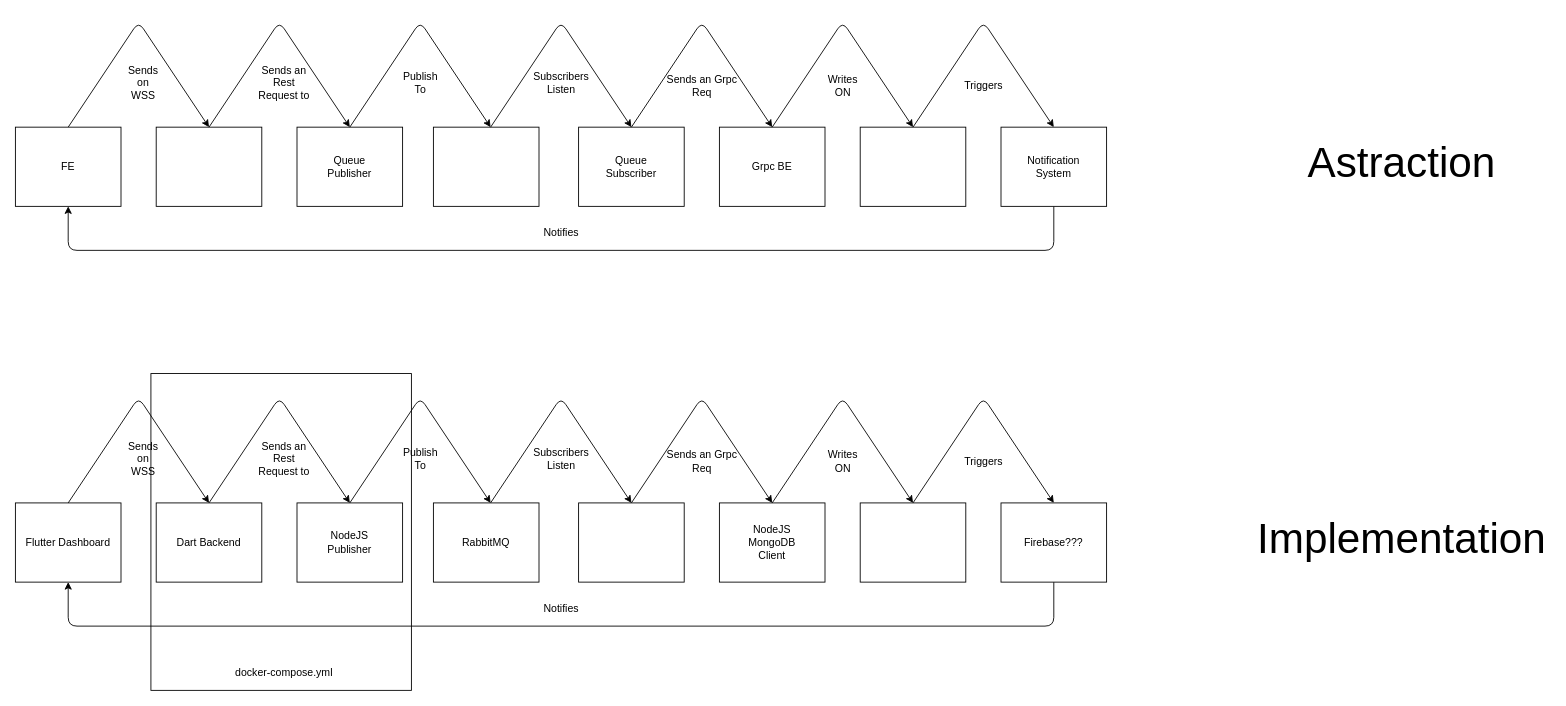
Image size: 1566x706. Some labels were removed from this diagram. The shapes that lost their labels are listed below. From the top down, each one's box as (x1, y1, x2, y2) in pixels, then its label:
(155, 126, 262, 206): BE
(433, 126, 539, 206): Queue System
(859, 126, 966, 206): NoSQL DBMS
(578, 502, 684, 582): .NET 7 Middleware
(859, 502, 966, 582): MongoDB
